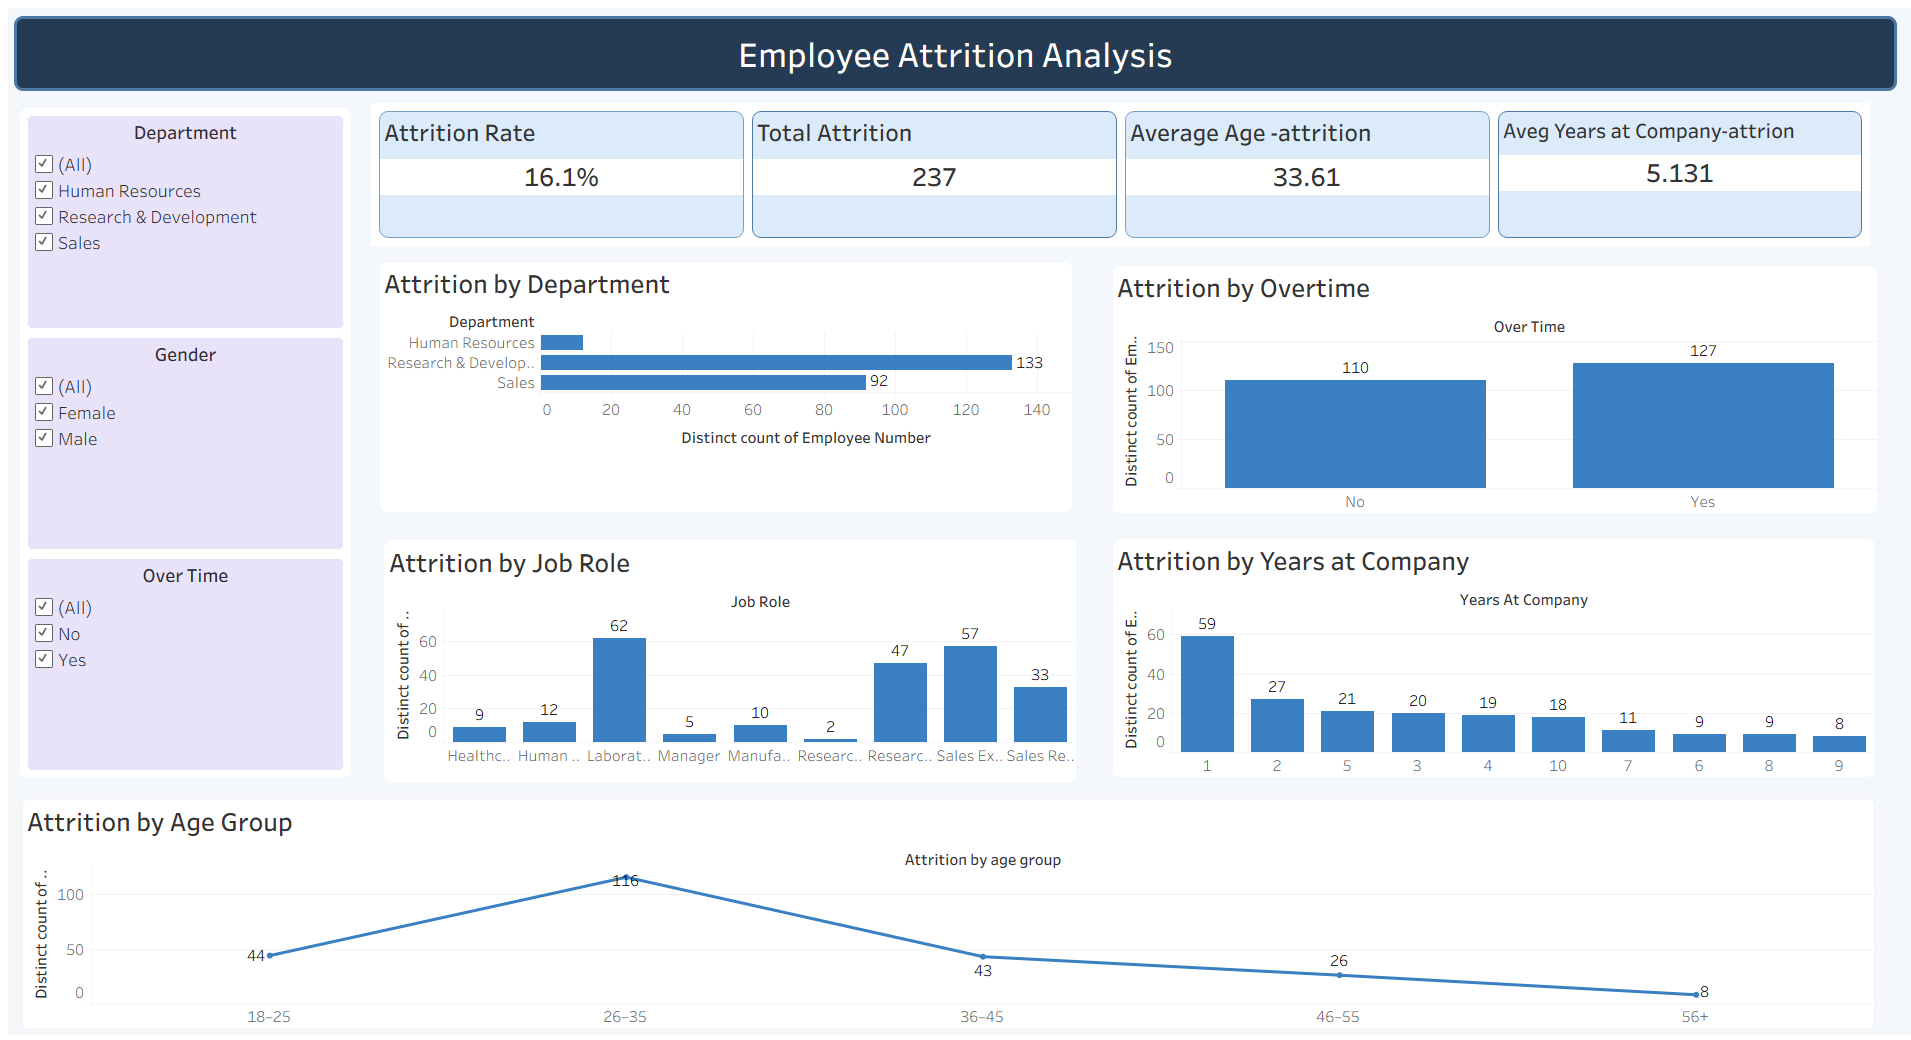

The dashboard page shown, as its layout file describes it:
{"tool":"tableau","page":{"name":"Dashboard 2","canvas":[1000,1000],"units":"permille","ordinal":1},"visuals":[{"type":"text","box":[7.2,15.3,980.7,71.7]},{"type":"worksheet","title":"Attrition Rate","mark":"Automatic","box":[195.5,103.4,194.3,128.1]},{"type":"worksheet","title":"Total Attrition","mark":"Automatic","box":[389.9,103.4,194.3,128.1]},{"type":"worksheet","title":"Average Age -attrition","mark":"Automatic","box":[584.2,103.4,193.7,128.1]},{"type":"worksheet","title":"Aveg Years at Company-attrion","mark":"Automatic","box":[777.9,103.4,193.7,128.1]},{"type":"filter","title":"Attrition by Department","param":"[federated.1jk4maq1to989f1353upk0luzgk6].[none:Department:nk]","box":[12.1,106.9,169,212.7]},{"type":"worksheet","title":"Attrition by Department","mark":"Automatic","rows":["Department"],"cols":["EmployeeNumber"],"box":[197.3,250.3,361.5,242.1]},{"type":"worksheet","title":"Attrition by Overtime","mark":"Automatic","rows":["EmployeeNumber"],"cols":["OverTime"],"box":[579.4,253.8,398.9,238.5]},{"type":"filter","title":"Attrition by Department","param":"[federated.1jk4maq1to989f1353upk0luzgk6].[none:Gender:nk]","box":[12.1,319.6,169,211.5]},{"type":"worksheet","title":"Attrition by Years at Company","mark":"Automatic","rows":["EmployeeNumber"],"cols":["YearsAtCompany"],"box":[579.4,515.9,397.7,230.3]},{"type":"worksheet","title":"Attrition by Job Role","mark":"Automatic","rows":["EmployeeNumber"],"cols":["JobRole"],"box":[199.8,518.2,360.9,232.7]},{"type":"filter","title":"Attrition by Department","param":"[federated.1jk4maq1to989f1353upk0luzgk6].[none:OverTime:nk]","box":[12.1,531.1,169,211.5]},{"type":"worksheet","title":"Attrition by Age Group","mark":"Line","rows":["EmployeeNumber"],"cols":["Calculation_1440418069401600"],"box":[10.3,763.8,967.4,224.4]}]}

Visuals, with their boxes on the dashboard's canvas, which has no fixed pixel size, in thousandths of its width and height (x1, y1, x2, y2). These are canvas units, not pixel positions in the 1911x1040 screenshot, which may show the page scaled, cropped or inside an application window:
text: [left=7, top=15, right=988, bottom=87]
"Attrition Rate" worksheet: [left=196, top=103, right=390, bottom=232]
"Total Attrition" worksheet: [left=390, top=103, right=584, bottom=232]
"Average Age -attrition" worksheet: [left=584, top=103, right=778, bottom=232]
"Aveg Years at Company-attrion" worksheet: [left=778, top=103, right=972, bottom=232]
"Attrition by Department" filter: [left=12, top=107, right=181, bottom=320]
"Attrition by Department" worksheet: [left=197, top=250, right=559, bottom=492]
"Attrition by Overtime" worksheet: [left=579, top=254, right=978, bottom=492]
"Attrition by Department" filter: [left=12, top=320, right=181, bottom=531]
"Attrition by Years at Company" worksheet: [left=579, top=516, right=977, bottom=746]
"Attrition by Job Role" worksheet: [left=200, top=518, right=561, bottom=751]
"Attrition by Department" filter: [left=12, top=531, right=181, bottom=743]
"Attrition by Age Group" worksheet (Line marks): [left=10, top=764, right=978, bottom=988]
